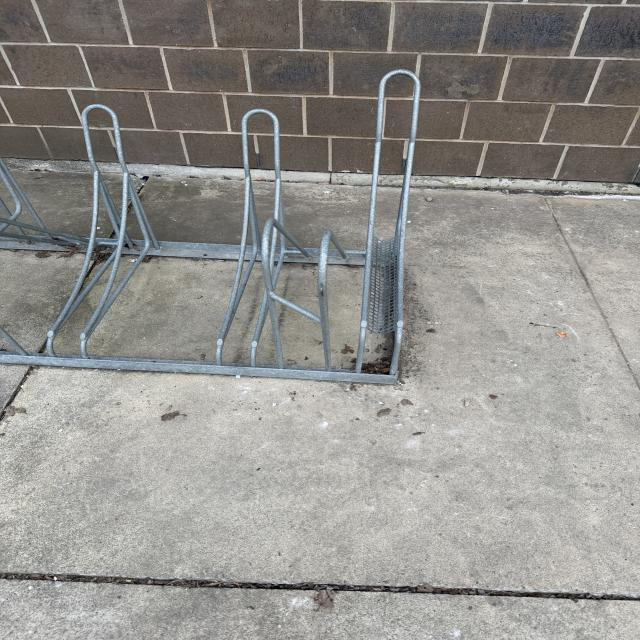Bicycle Rack: (0, 69, 421, 385)
